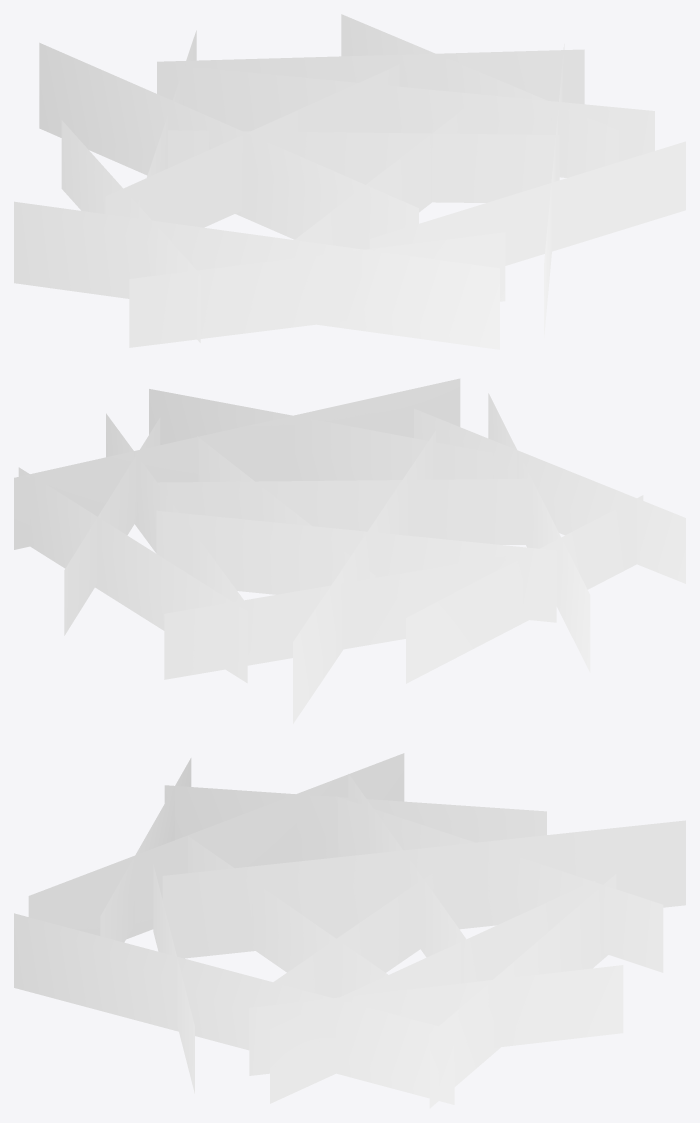
Rendered from SM_Env_Grass_Short_Clump_03.glb.
The picture shows the model from 3 angles, top to bottom: view 1: azimuth 30°, elevation 25°; view 2: azimuth 150°, elevation 25°; view 3: azimuth 270°, elevation 25°; orthographic projection. The views are drawn at different scales.
Visible parts, largest first — view 1: SM_Env_Grass_Short_Clump_03_LOD0; view 2: SM_Env_Grass_Short_Clump_03_LOD0; view 3: SM_Env_Grass_Short_Clump_03_LOD0.
Boxes of the visible parts, x1,y1,x2,y2 form: SM_Env_Grass_Short_Clump_03_LOD0: [14, 14, 685, 349]; SM_Env_Grass_Short_Clump_03_LOD0: [14, 378, 685, 723]; SM_Env_Grass_Short_Clump_03_LOD0: [14, 753, 685, 1108].
Size of what is drawn, in the model's own units: 1.72 by 0.2684 by 1.73.
1 material, 1 textured.
